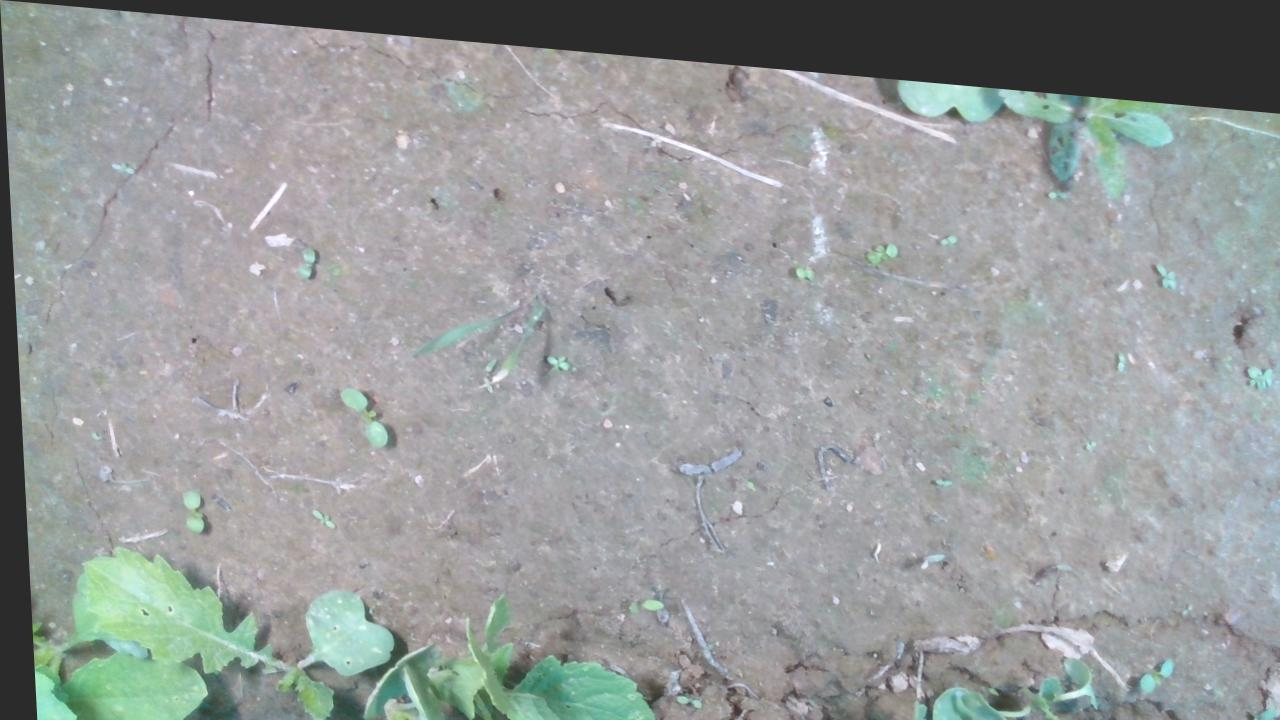weed: (332, 380, 384, 445), (1129, 630, 1170, 676), (172, 484, 201, 533), (1236, 337, 1272, 369), (861, 221, 898, 250), (619, 583, 660, 605), (290, 238, 313, 276), (1150, 237, 1176, 270), (788, 246, 817, 268), (303, 501, 331, 523), (539, 341, 567, 362), (666, 681, 695, 698), (933, 212, 956, 231)
